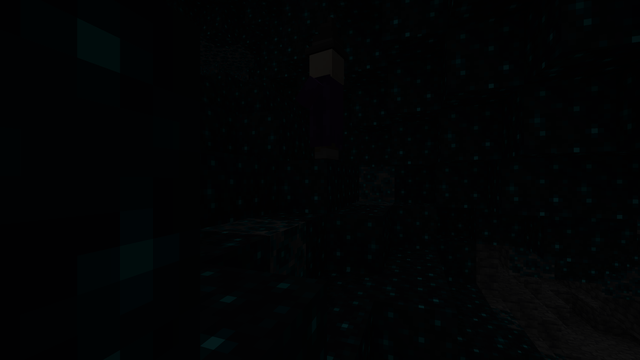sorcieres: (305, 42, 346, 160)
